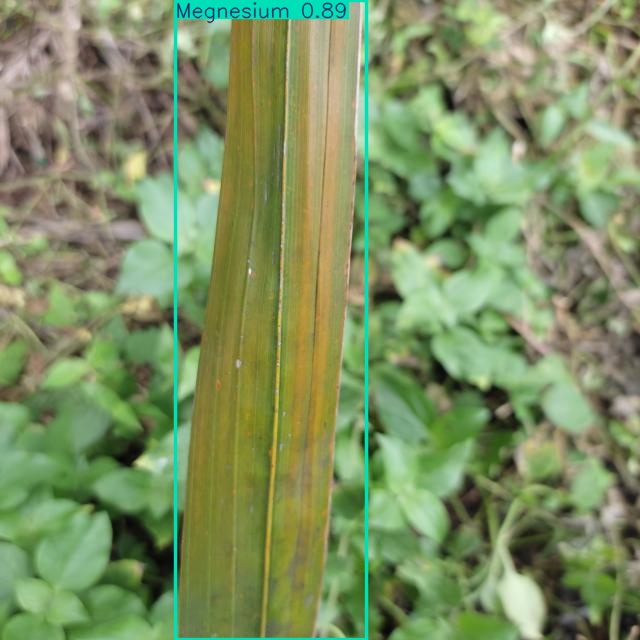Megnesium: (175, 0, 366, 640)
